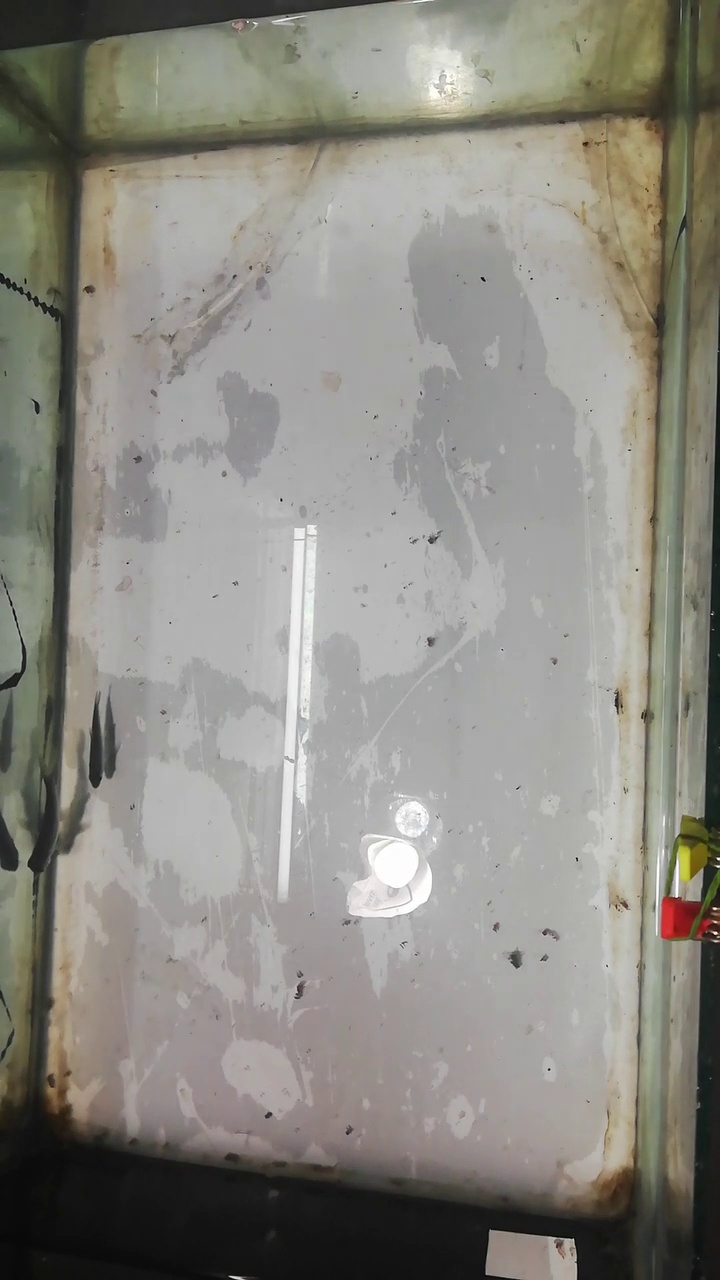fish1: (60, 737, 94, 858)
fish2: (89, 695, 117, 786)
